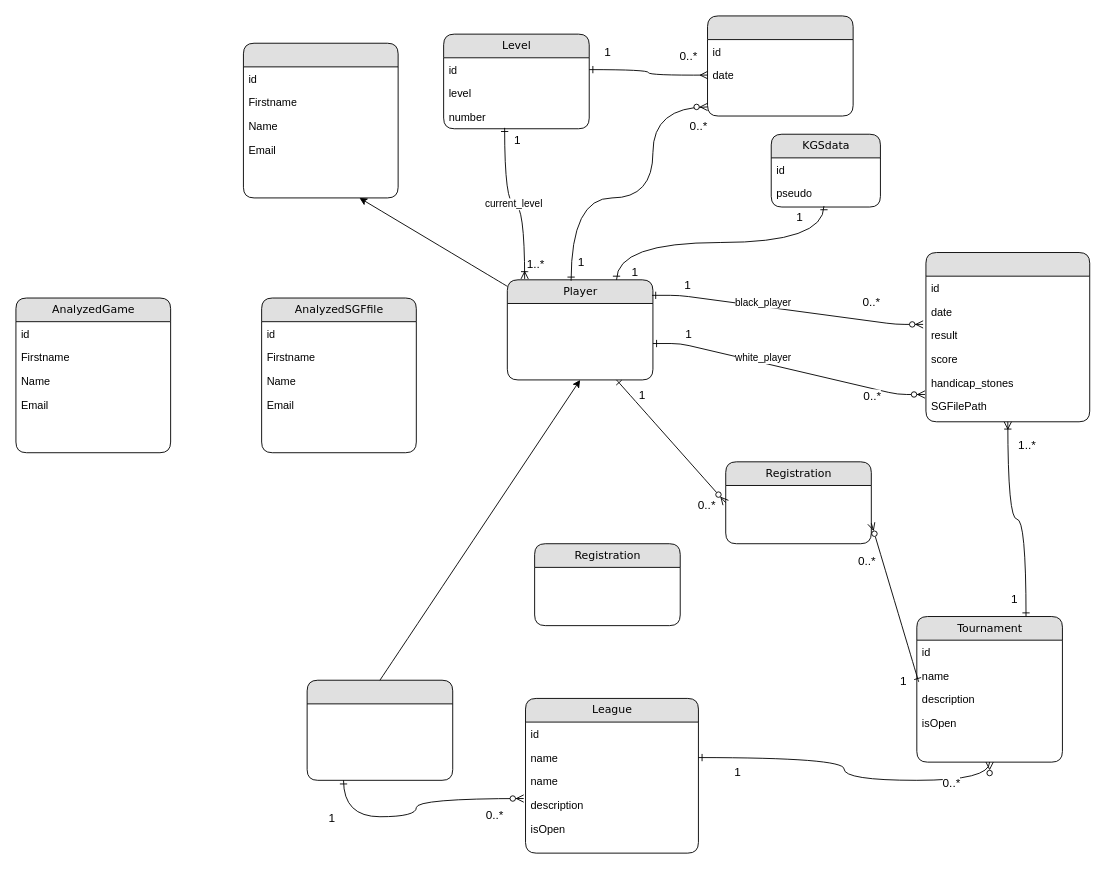
Image size: 1106x869. Some labels were removed from this diagram. Here are the shapes that lost their labels. From the top down, the box of each, then its label:
(707, 15, 853, 116): Level_history
(243, 42, 398, 198): User
(925, 252, 1090, 422): Game
(306, 679, 453, 780): LeagueManager
